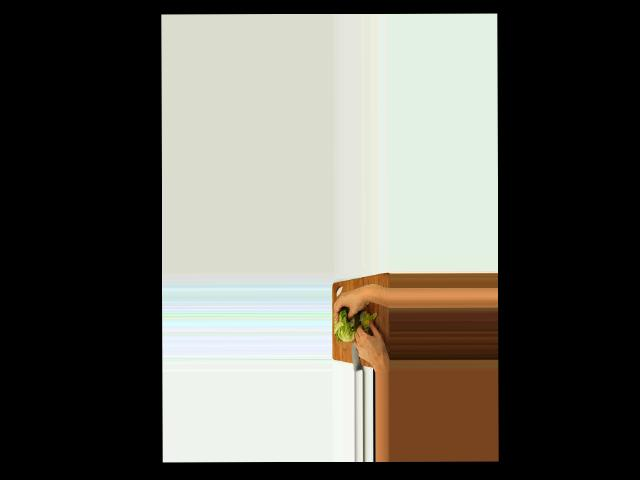lettuce: (334, 308, 357, 342)
